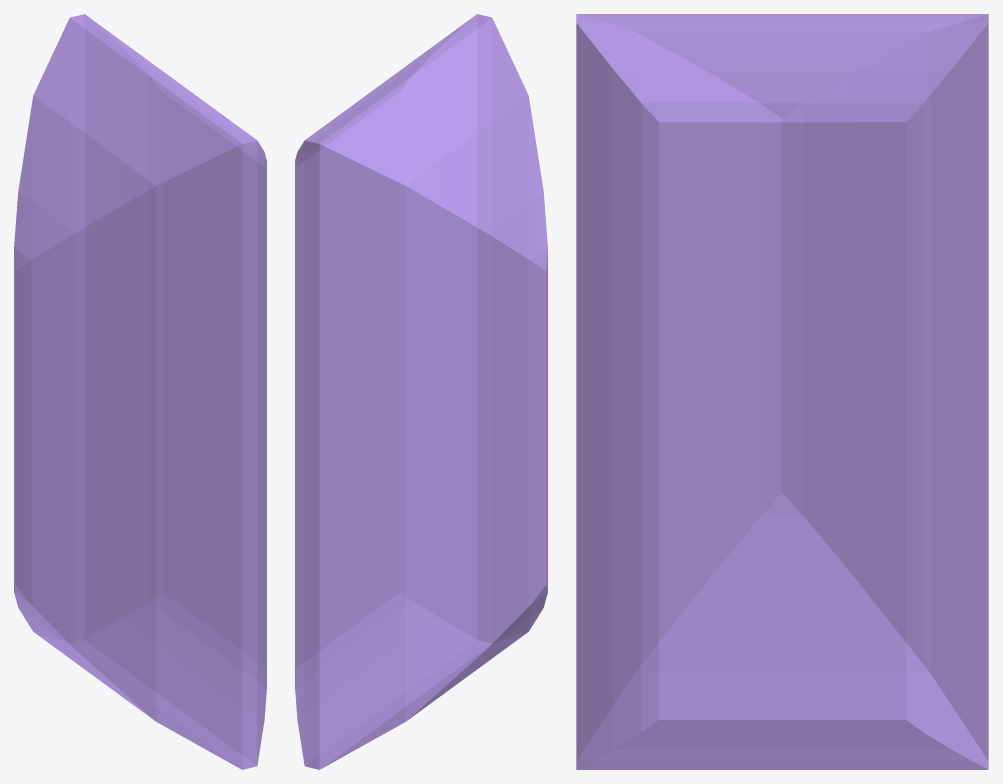
Rendered from baguette ametiste.glb.
The picture shows the model from 3 angles, left to right: view 1: azimuth 30°, elevation 25°; view 2: azimuth 150°, elevation 25°; view 3: azimuth 270°, elevation 25°; orthographic projection. The views are drawn at different scales.
Parts seen in each view (by area): view 1: uploads_files_895467_baguette; view 2: uploads_files_895467_baguette; view 3: uploads_files_895467_baguette.
Part boxes in pixels (bbox=[...]): uploads_files_895467_baguette: bbox=[14, 14, 266, 769]; uploads_files_895467_baguette: bbox=[295, 14, 547, 769]; uploads_files_895467_baguette: bbox=[576, 14, 988, 769].
Bounding box in the file's own units: 0.6654 × 2.01 × 1.01.
